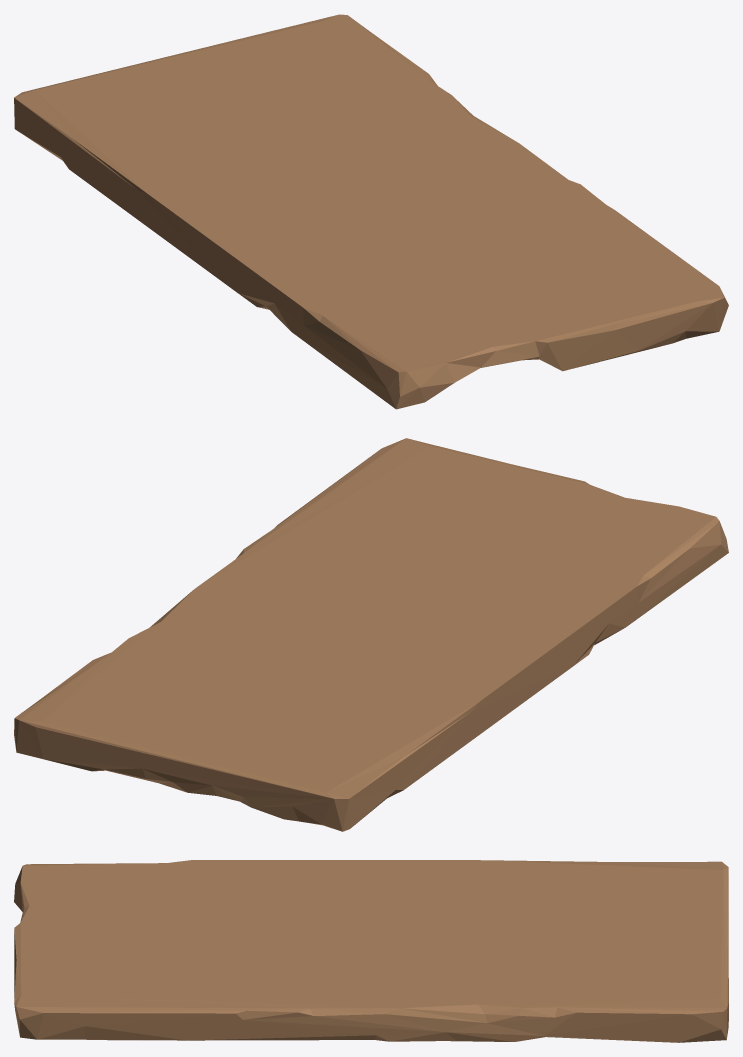
Rendered from SM_clay_platform_02.fbx.
3 views of the same model, one above another, from view 1: azimuth 30°, elevation 25°; view 2: azimuth 150°, elevation 25°; view 3: azimuth 270°, elevation 25° (orthographic). The views are drawn at different scales.
Parts seen in each view (by area): view 1: clay_platform_02; view 2: clay_platform_02; view 3: clay_platform_02.
Boxes of the visible parts, bbox=[...] form: clay_platform_02: bbox=[14, 14, 728, 409]; clay_platform_02: bbox=[14, 438, 728, 831]; clay_platform_02: bbox=[14, 860, 728, 1042].
Size of the model in its own units: 500 by 52.71 by 1001.
